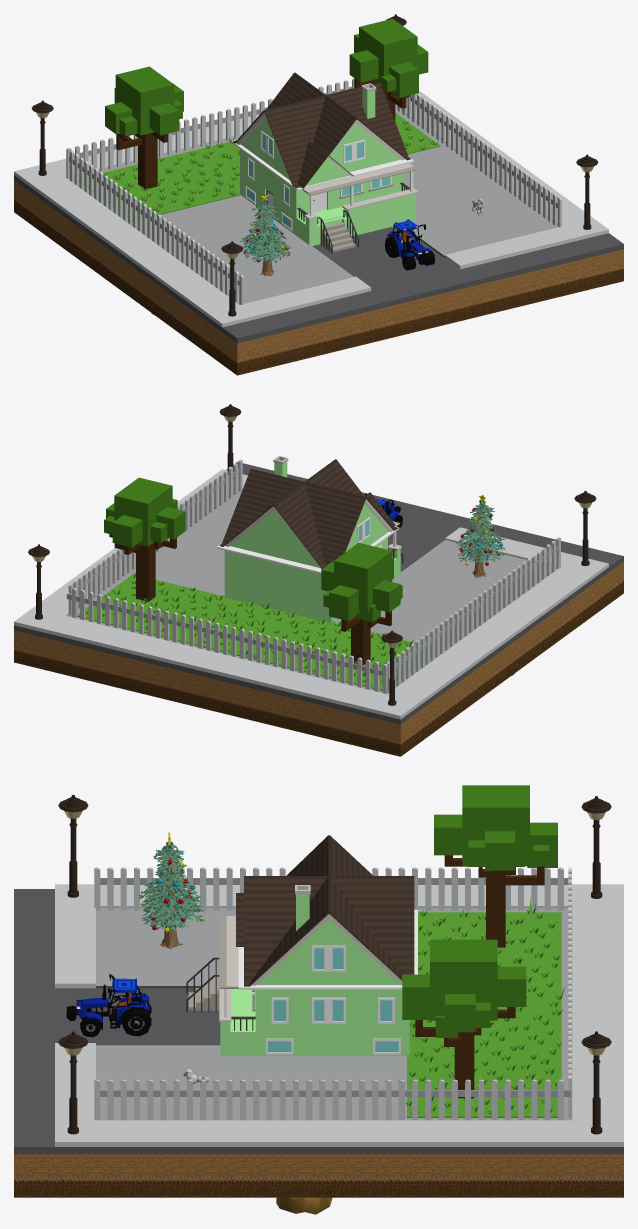
The picture shows the model from 3 angles, top to bottom: view 1: azimuth 30°, elevation 25°; view 2: azimuth 150°, elevation 25°; view 3: azimuth 270°, elevation 25°; orthographic projection. The views are drawn at different scales.
Parts seen in each view (by area): view 1: Cube.004, Cube.274, OBJRANDOM_CHRISTMAS_TREE, VEHICLES_TRACTOR; view 2: Cube.004, Cube.274, OBJRANDOM_CHRISTMAS_TREE; view 3: Cube.004, Cube.274, OBJRANDOM_CHRISTMAS_TREE, VEHICLES_TRACTOR, UNDERGROUND_T_REX_BONES.
Part boxes in pixels (<box>): Cube.004: <box>14,14,623,375</box>; Cube.274: <box>231,72,418,253</box>; OBJRANDOM_CHRISTMAS_TREE: <box>240,193,291,276</box>; VEHICLES_TRACTOR: <box>385,219,434,270</box>; Cube.004: <box>14,404,623,756</box>; Cube.274: <box>217,455,403,623</box>; OBJRANDOM_CHRISTMAS_TREE: <box>456,494,505,577</box>; Cube.004: <box>14,785,623,1197</box>; Cube.274: <box>186,835,417,1056</box>; OBJRANDOM_CHRISTMAS_TREE: <box>139,832,205,949</box>; VEHICLES_TRACTOR: <box>66,974,151,1037</box>; UNDERGROUND_T_REX_BONES: <box>276,1197,332,1214</box>.
Size of the model in its own units: 4000 by 1714 by 4000.
Materials: 34 (3 with a texture image).
